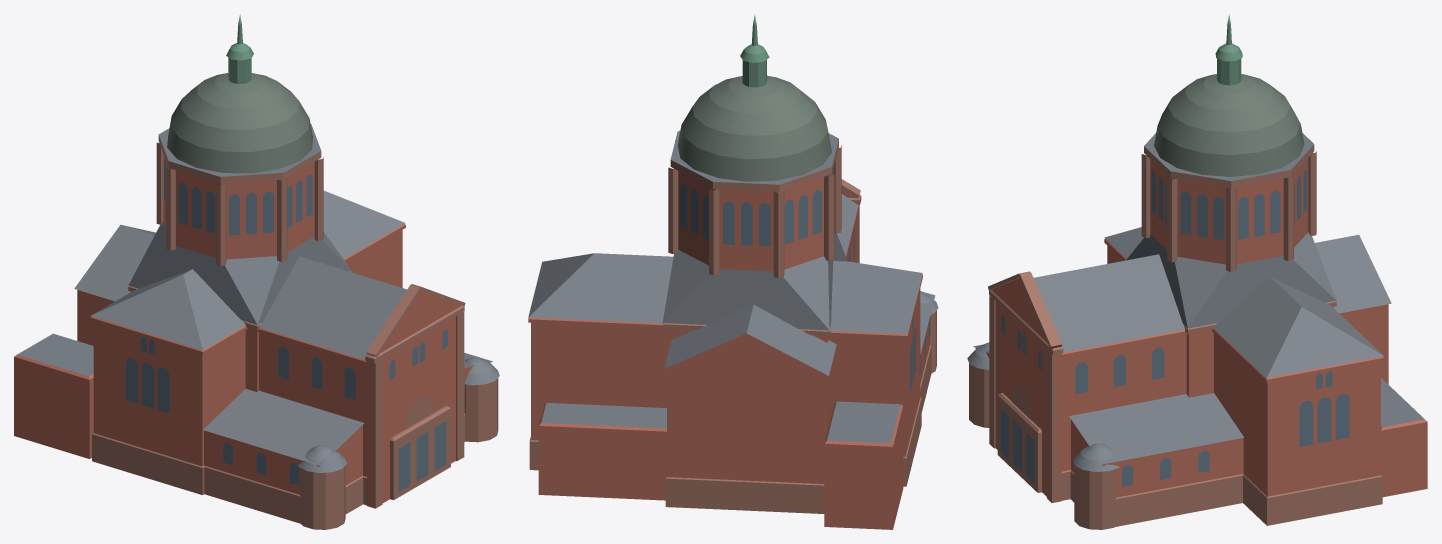
File: detail.glb
3 renders of one model, left to right at view 1: azimuth 30°, elevation 25°; view 2: azimuth 150°, elevation 25°; view 3: azimuth 270°, elevation 25°, orthographic. The views are drawn at different scales.
Parts seen in each view (by area): view 1: cathedral-of-st-matthew-the-apostle; view 2: cathedral-of-st-matthew-the-apostle; view 3: cathedral-of-st-matthew-the-apostle.
Boxes of the visible parts, box(x1,y1,x2,y2) form: cathedral-of-st-matthew-the-apostle: box(14, 14, 499, 529); cathedral-of-st-matthew-the-apostle: box(528, 14, 938, 529); cathedral-of-st-matthew-the-apostle: box(967, 14, 1427, 529).
Size of the model in its own units: 57.38 by 61 by 60.46.
